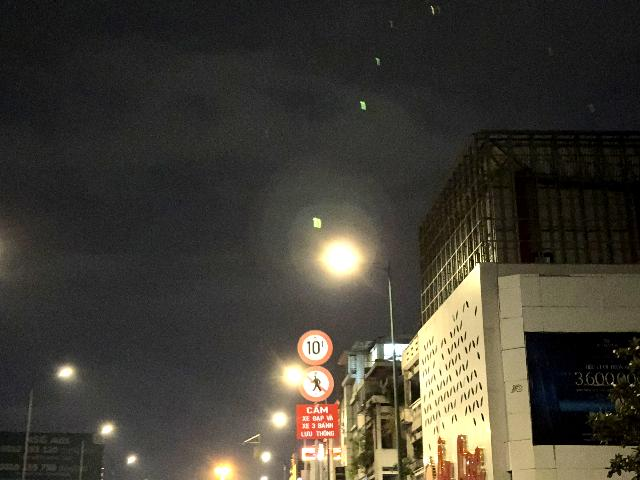cam-nguoi-di-bo: (298, 366, 334, 402)
han-che-trong-luong-xe: (297, 329, 334, 366)
